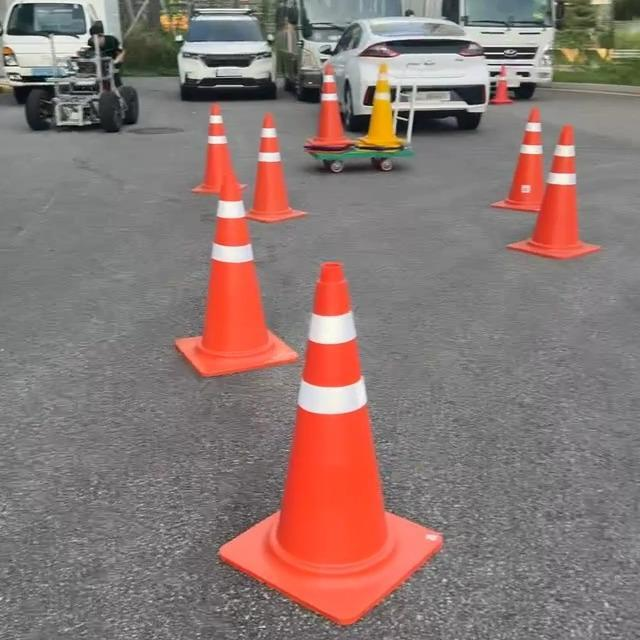fallen_object: (262, 209, 396, 609), (113, 180, 286, 364), (183, 42, 315, 228), (272, 45, 411, 163), (517, 135, 635, 273), (478, 84, 548, 207), (485, 55, 547, 143)
